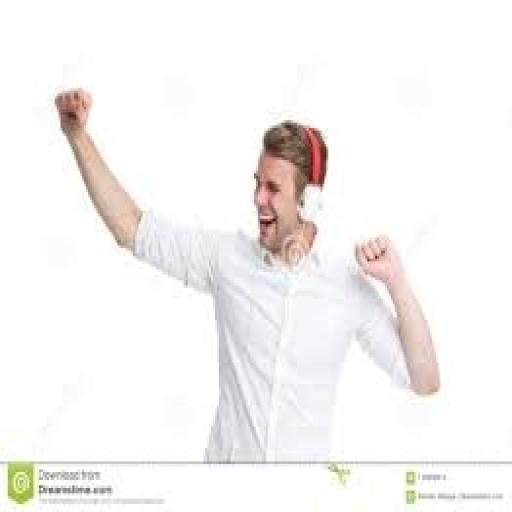listening_to_music: (50, 80, 444, 464)
